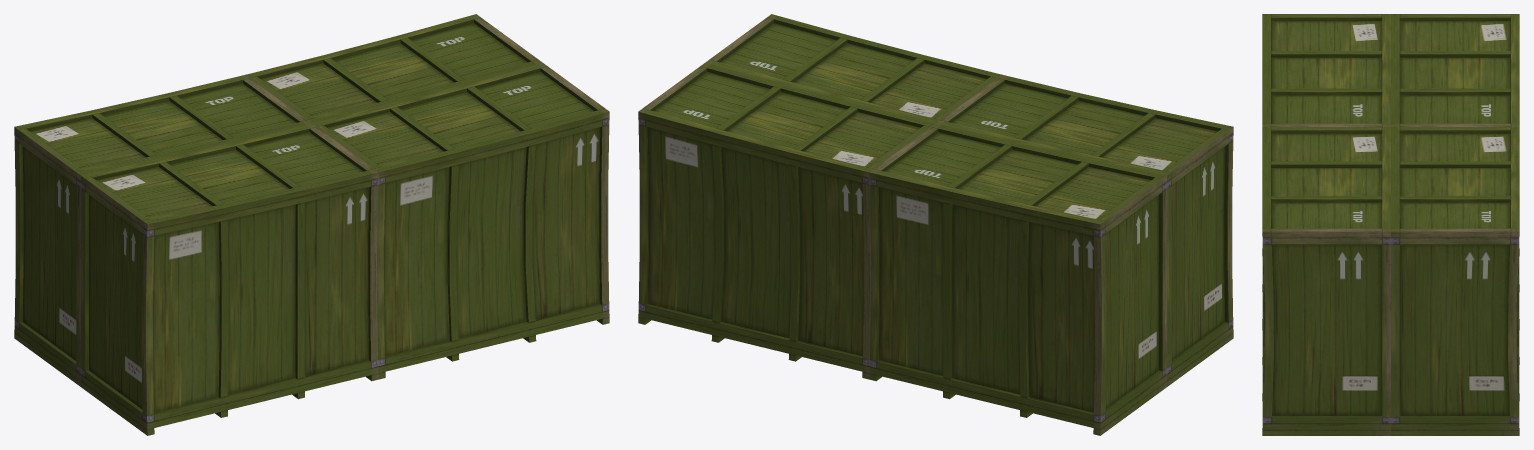
Rendered from Crate02_3.FBX.
The picture shows the model from 3 angles, left to right: view 1: azimuth 30°, elevation 25°; view 2: azimuth 150°, elevation 25°; view 3: azimuth 270°, elevation 25°; orthographic projection. The views are drawn at different scales.
Visible parts, largest first — view 1: Crate02_3; view 2: Crate02_3; view 3: Crate02_3.
Part boxes in pixels (<box>): Crate02_3: <box>14,14,609,435</box>; Crate02_3: <box>638,14,1233,435</box>; Crate02_3: <box>1262,14,1519,435</box>.
Size of what is drawn, in the model's own units: 4 by 1.75 by 2.
